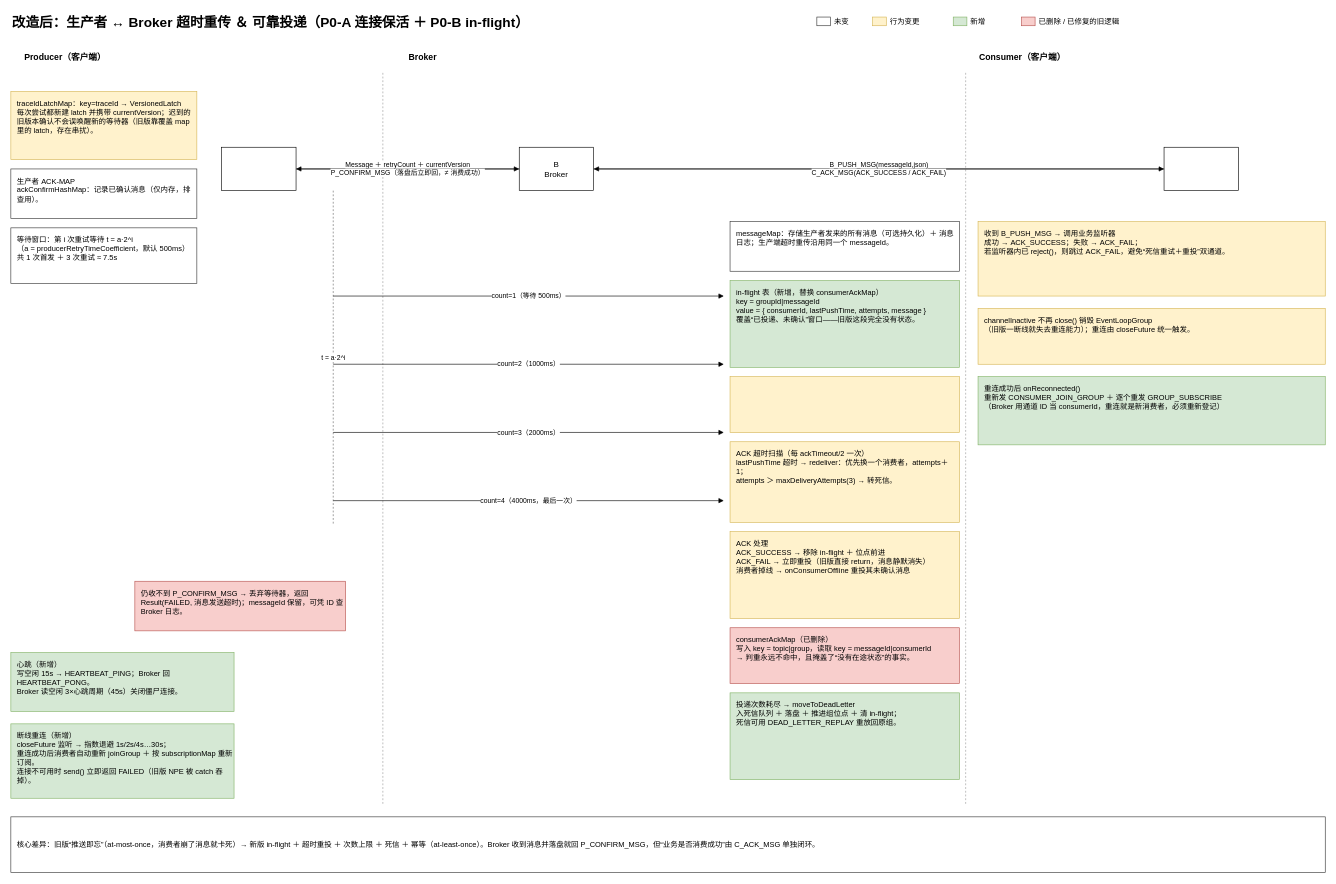
Some shapes in this 1336 by 884 pixel diagram are drawn without their labels. Here are the shapes that lost their labels. From the top down, the centre of each, then its label:
At pixel 258 169: "P 生产者".
At pixel 1200 169: "Consumer".
At pixel 844 404: "投递前 containsKey 判重 生产端重传同一条消息时不再重复推送／重复投递（旧版判重 key 不一致，永远不命中）。".
